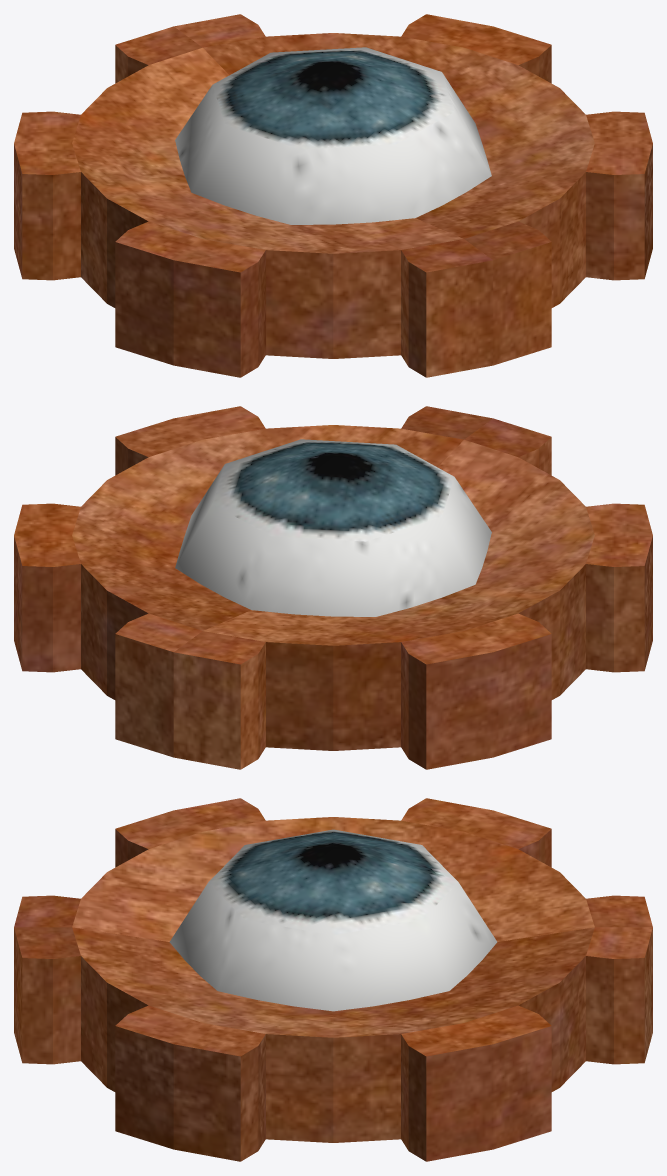
The model's file is eye_gear.fbx.
3 views of the same model, one above another, from view 1: azimuth 30°, elevation 25°; view 2: azimuth 150°, elevation 25°; view 3: azimuth 270°, elevation 25° (orthographic).
Parts seen in each view (by area): view 1: Gear, Sphere; view 2: Gear, Sphere; view 3: Gear, Sphere.
Part boxes in pixels (left/top/right/bottom): Gear: left=14, top=14, right=652, bottom=377; Sphere: left=175, top=47, right=491, bottom=224; Gear: left=14, top=406, right=652, bottom=769; Sphere: left=175, top=439, right=491, bottom=616; Gear: left=14, top=798, right=652, bottom=1161; Sphere: left=169, top=829, right=497, bottom=1011.
Bounding box in the file's own units: 211 × 85.91 × 220.
Materials: 2 (2 with a texture image).
